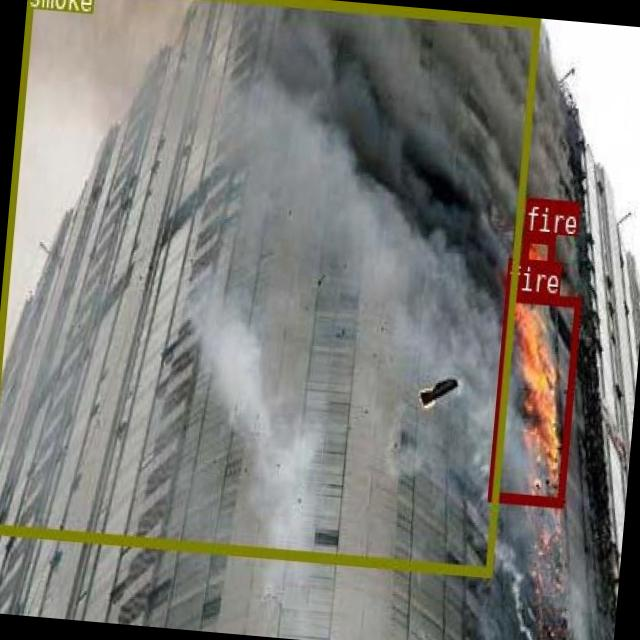fire: (486, 288, 580, 505), (518, 229, 554, 294)
smoke: (0, 0, 539, 575)
